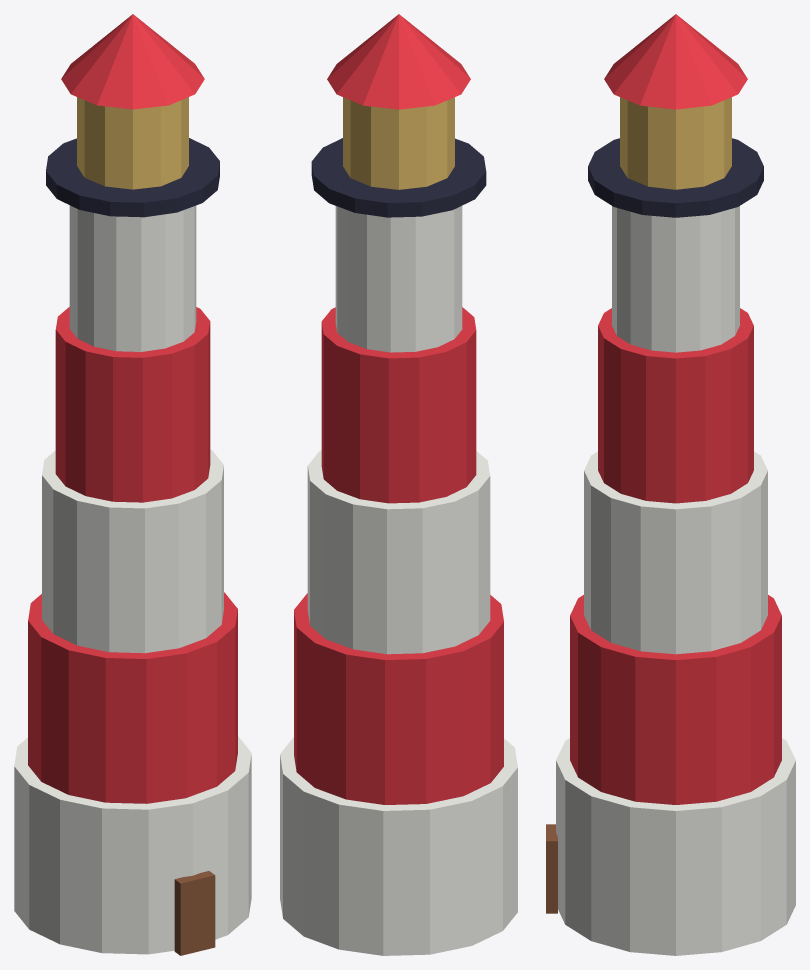
Rendered from lighthouse.glb.
3 views of the same model, side by side, from view 1: azimuth 30°, elevation 25°; view 2: azimuth 150°, elevation 25°; view 3: azimuth 270°, elevation 25° (orthographic).
Parts seen in each view (by area): view 1: lighthouse_offwhite, lighthouse_red, lighthouse_gold, lighthouse_black, lighthouse_door; view 2: lighthouse_offwhite, lighthouse_red, lighthouse_gold, lighthouse_black; view 3: lighthouse_offwhite, lighthouse_red, lighthouse_gold, lighthouse_black, lighthouse_door.
Part boxes in pixels (bbox=[...]): lighthouse_offwhite: bbox=[14, 205, 251, 954]; lighthouse_red: bbox=[28, 14, 237, 803]; lighthouse_gold: bbox=[77, 97, 188, 189]; lighthouse_black: bbox=[46, 138, 219, 217]; lighthouse_door: bbox=[174, 871, 215, 955]; lighthouse_offwhite: bbox=[280, 206, 517, 955]; lighthouse_red: bbox=[294, 14, 503, 804]; lighthouse_gold: bbox=[343, 97, 454, 189]; lighthouse_black: bbox=[311, 138, 486, 217]; lighthouse_offwhite: bbox=[556, 206, 795, 955]; lighthouse_red: bbox=[570, 14, 781, 804]; lighthouse_gold: bbox=[620, 97, 731, 189]; lighthouse_black: bbox=[588, 138, 763, 217]; lighthouse_door: bbox=[546, 824, 557, 913].
Bounding box in the file's own units: 6 × 24.6 × 6.25.
